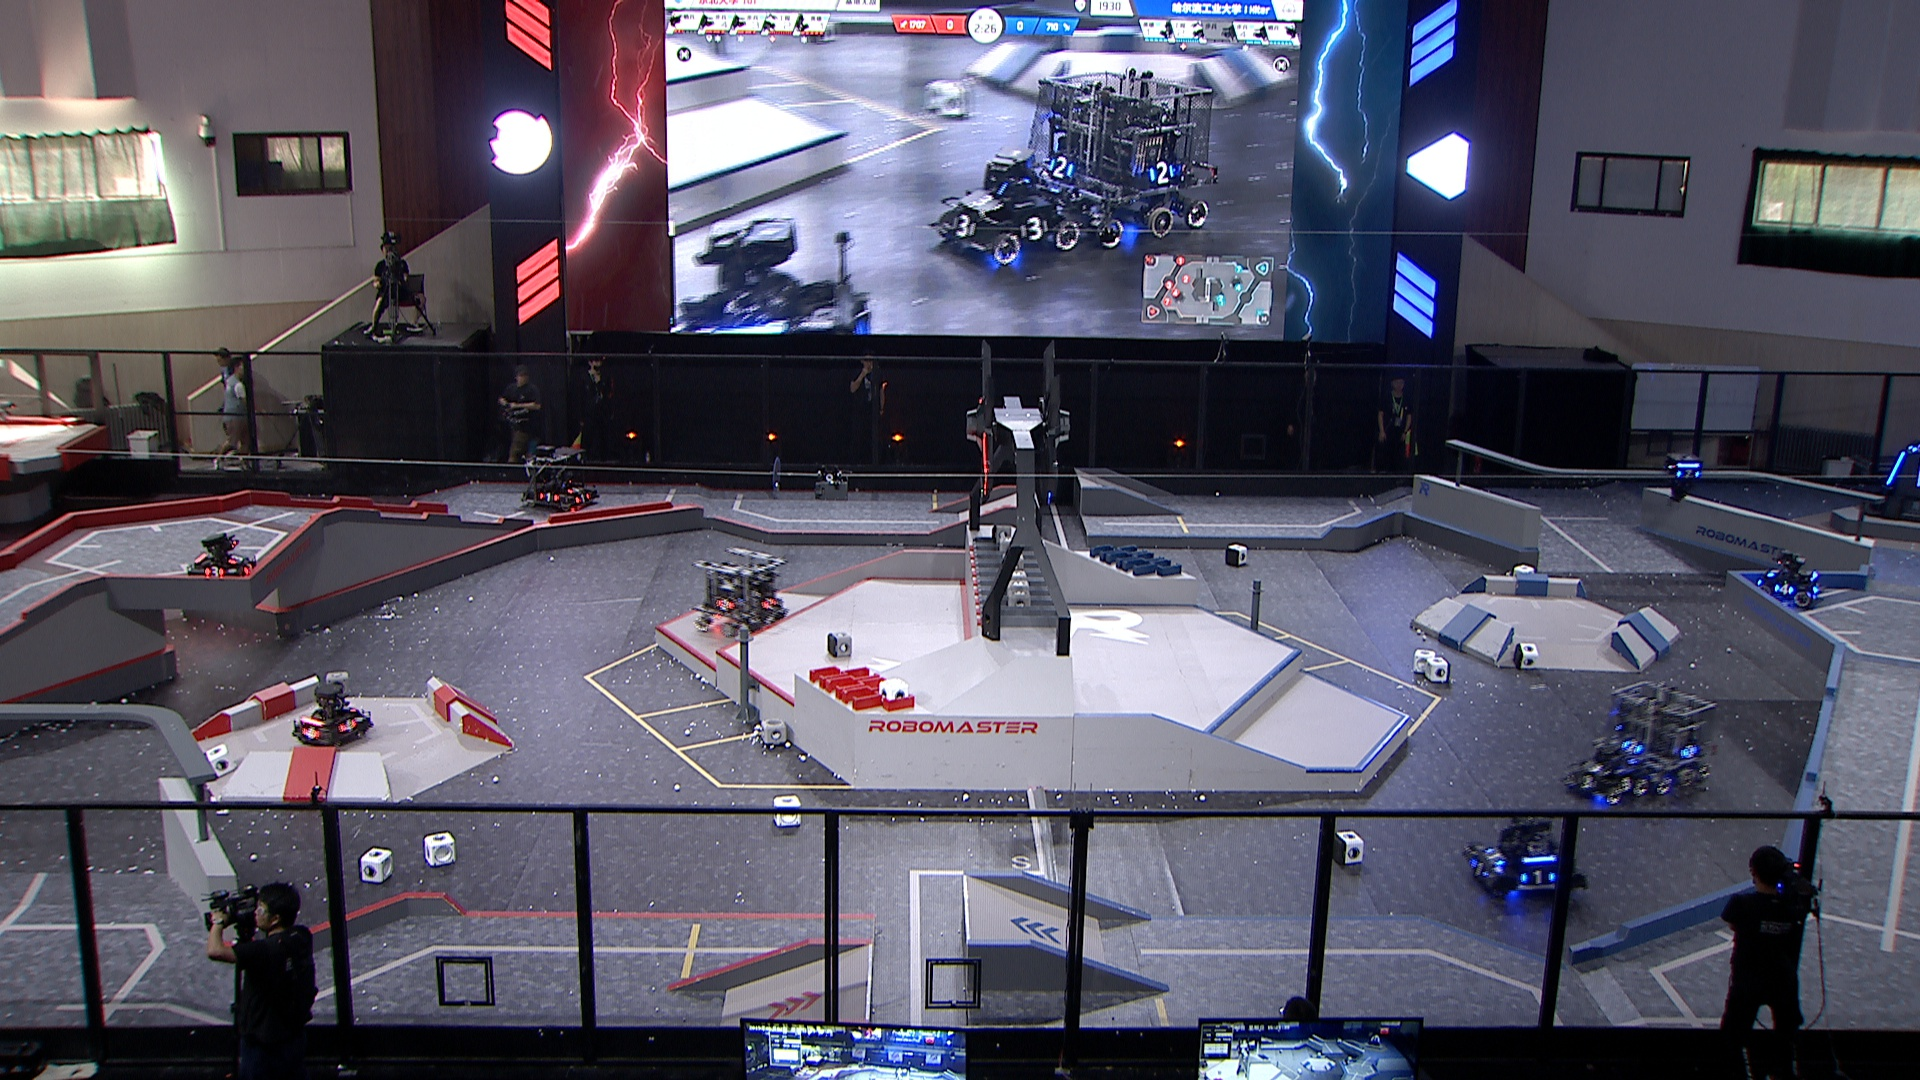armor: (1884, 448, 1907, 488), (1518, 870, 1560, 887), (1584, 761, 1614, 778), (1621, 738, 1644, 760), (1577, 771, 1600, 793), (1470, 856, 1490, 880), (1774, 580, 1797, 597), (1485, 849, 1506, 868), (1614, 775, 1636, 793), (202, 564, 228, 579), (299, 725, 323, 741), (1673, 469, 1702, 481), (716, 597, 736, 615), (338, 717, 357, 735), (1680, 744, 1700, 760), (538, 491, 560, 504), (225, 553, 247, 564), (243, 560, 258, 576), (566, 485, 585, 496), (761, 597, 775, 611), (575, 495, 591, 505), (1768, 566, 1782, 578)
base: (1863, 443, 1920, 524)
car: (1605, 679, 1721, 794), (1458, 812, 1589, 909), (692, 546, 790, 641), (520, 442, 603, 516), (1567, 736, 1652, 807), (294, 680, 375, 750), (187, 531, 258, 589), (1756, 551, 1822, 609)
ignore: (1027, 69, 1220, 245), (673, 214, 877, 334), (928, 145, 1079, 270)
watcher: (1664, 452, 1705, 501)
